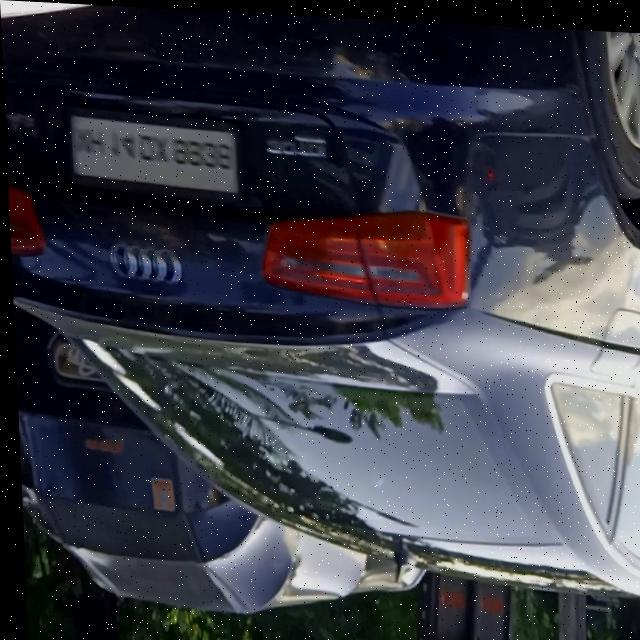plate: (63, 113, 246, 194)
